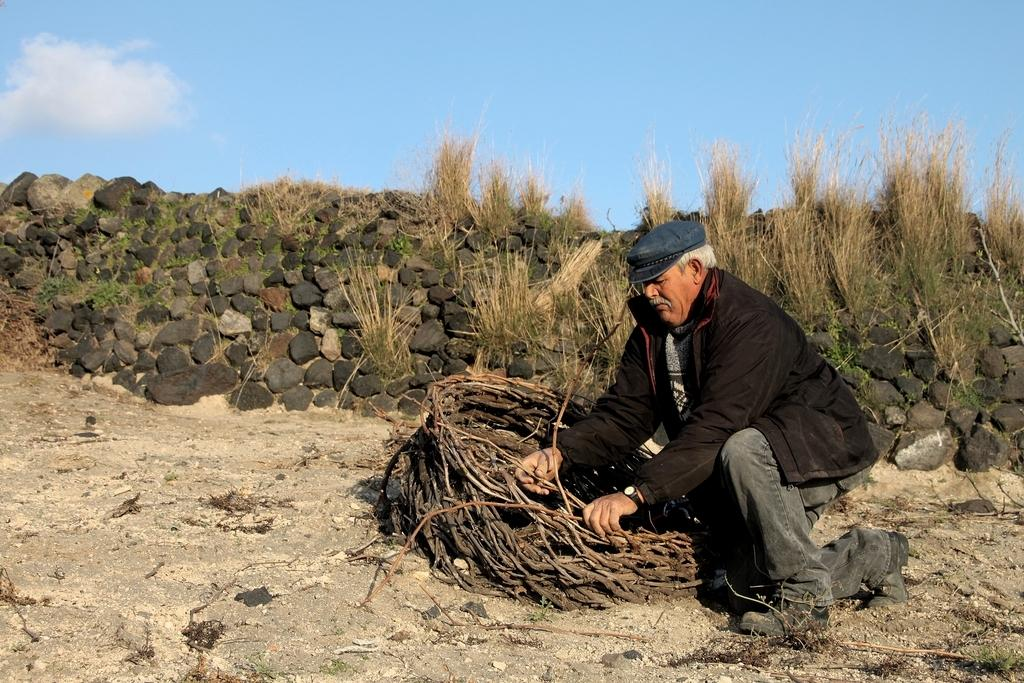Hat: (628, 218, 706, 284)
